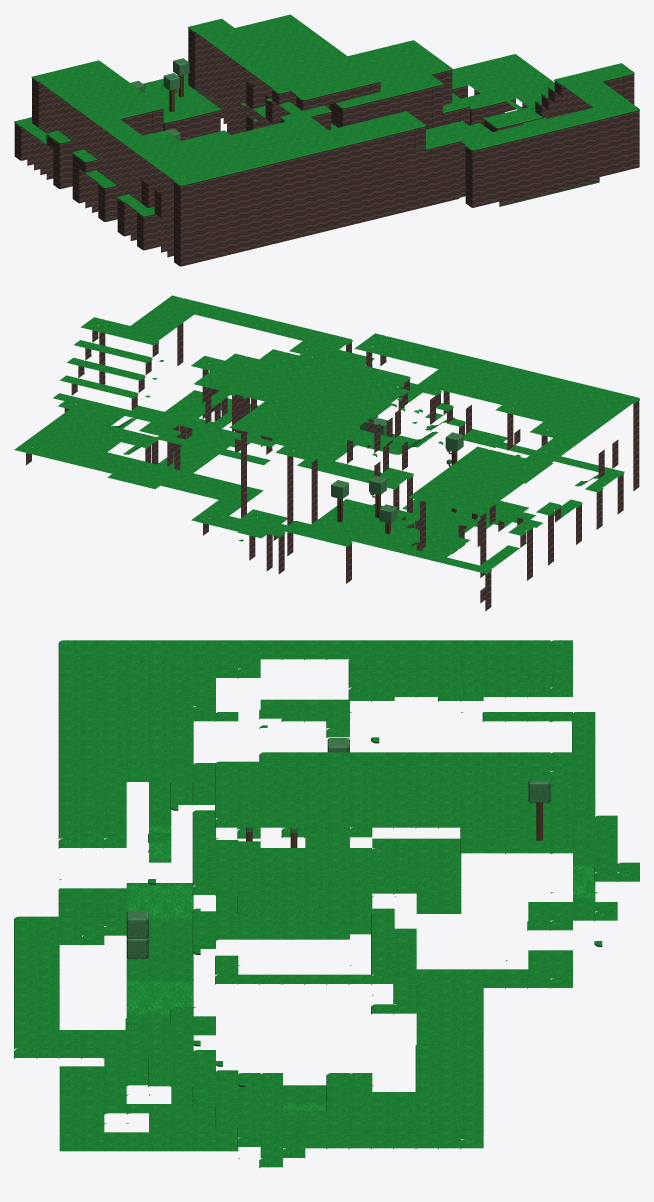
Rendered from stage.glb.
3 views of the same model, one above another, from view 1: azimuth 30°, elevation 25°; view 2: azimuth 150°, elevation 25°; view 3: azimuth 270°, elevation 25° (orthographic). The views are drawn at different scales.
Visible parts, largest first — view 1: no part large enough to name; view 2: no part large enough to name; view 3: _MeshInstance3D_1445, _MeshInstance3D_1368, _MeshInstance3D_2652, _MeshInstance3D_1378, _MeshInstance3D_1296.
Boxes of the visible parts, x1,y1,x2,y2 form: _MeshInstance3D_1445: (126,978,148,1017); _MeshInstance3D_1368: (149,978,171,1017); _MeshInstance3D_2652: (573,862,595,901); _MeshInstance3D_1378: (149,883,171,921); _MeshInstance3D_1296: (171,883,193,921).
Bounding box in the file's own units: 88.1 × 18 × 56.1.
Materials: 1 (1 with a texture image).
